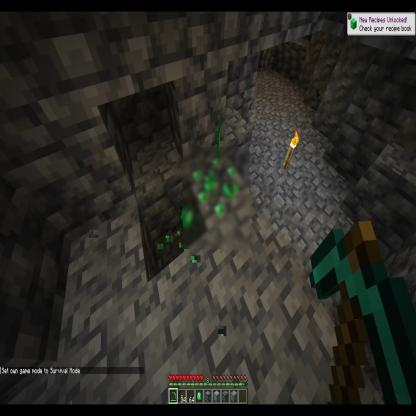emerald ore: (183, 147, 249, 249)
